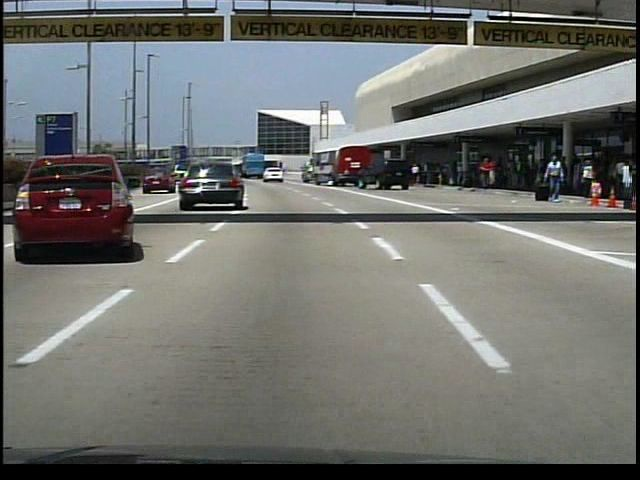person: (539, 152, 564, 202), (478, 155, 496, 189), (514, 154, 530, 189), (409, 163, 422, 188), (449, 157, 460, 186)
